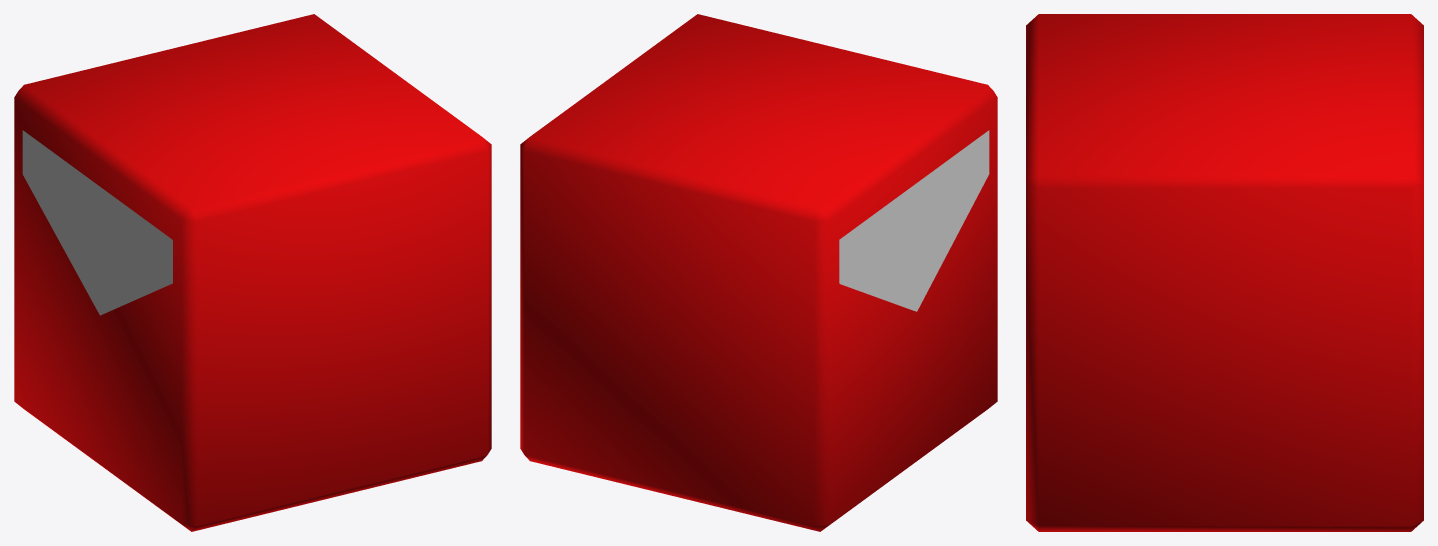
The picture shows the model from 3 angles, left to right: view 1: azimuth 30°, elevation 25°; view 2: azimuth 150°, elevation 25°; view 3: azimuth 270°, elevation 25°; orthographic projection. The views are drawn at different scales.
Visible parts, largest first — view 1: Cube.001, Plane; view 2: Cube.001, Plane; view 3: Cube.001.
Boxes of the visible parts, left/top/right/bottom form: Cube.001: left=14, top=14, right=491, bottom=531; Plane: left=22, top=130, right=172, bottom=315; Cube.001: left=520, top=14, right=997, bottom=531; Plane: left=839, top=130, right=989, bottom=311; Cube.001: left=1026, top=14, right=1423, bottom=531.
Size of the model in its own units: 200 by 200 by 200.
